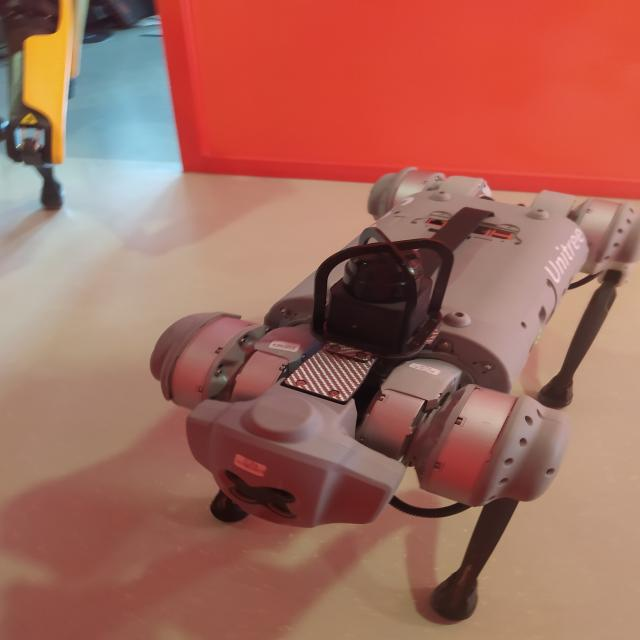unitree-go1-robot: (137, 161, 640, 640)
